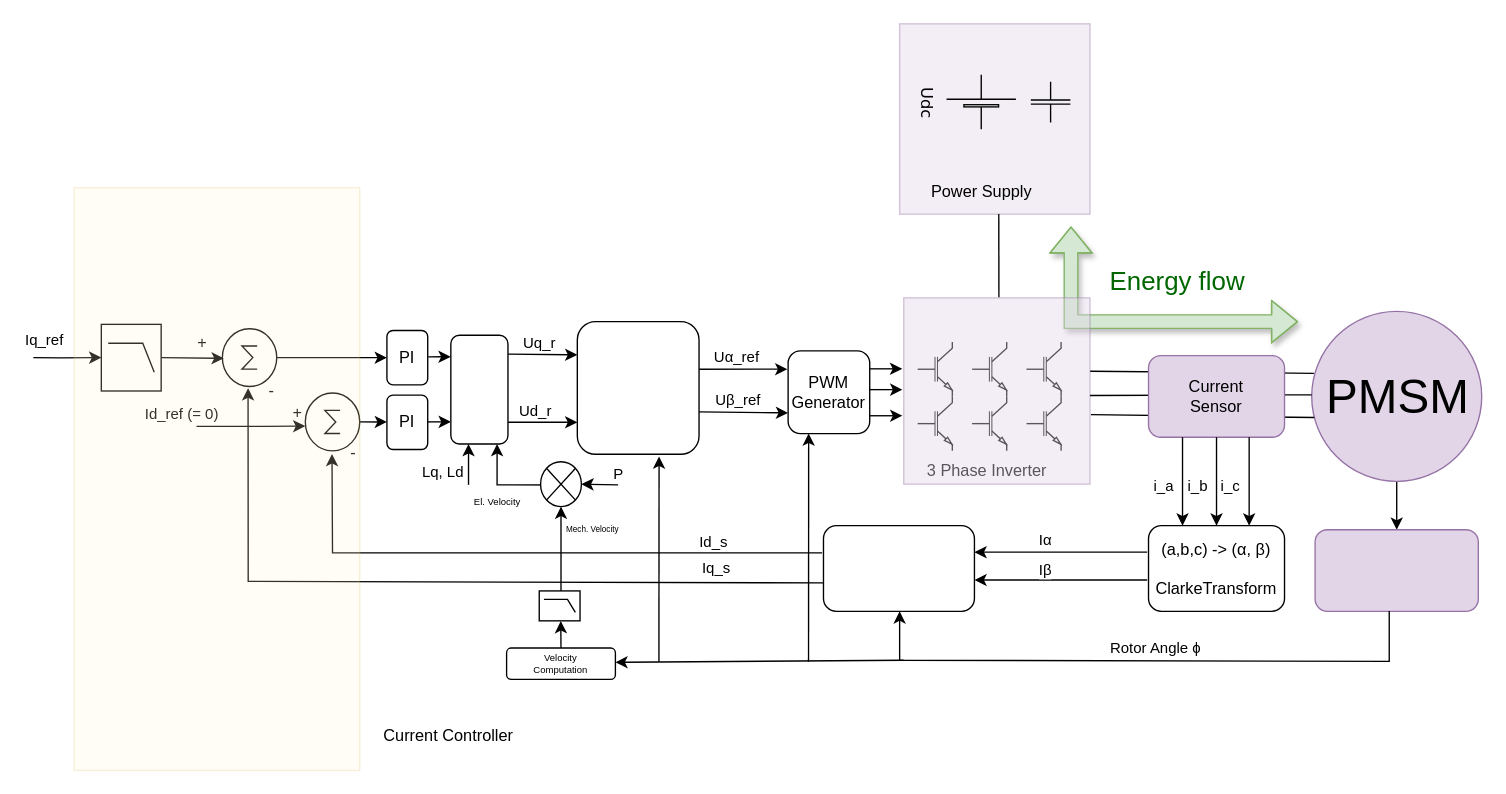
The diagram is 1506 pixels wide and 794 high, and some of its shapes have lost their labels. Each missing label, with the centre of its shape:
"(d,q) -> (α, β) Inverse Clarke" belongs at pixel 637 387.
"(α, β)-> (d,q) Park Transform" belongs at pixel 898 567.
"Decoupling & Back EMF Compensation" belongs at pixel 478 389.
"Position Sensor" belongs at pixel 1396 569.
